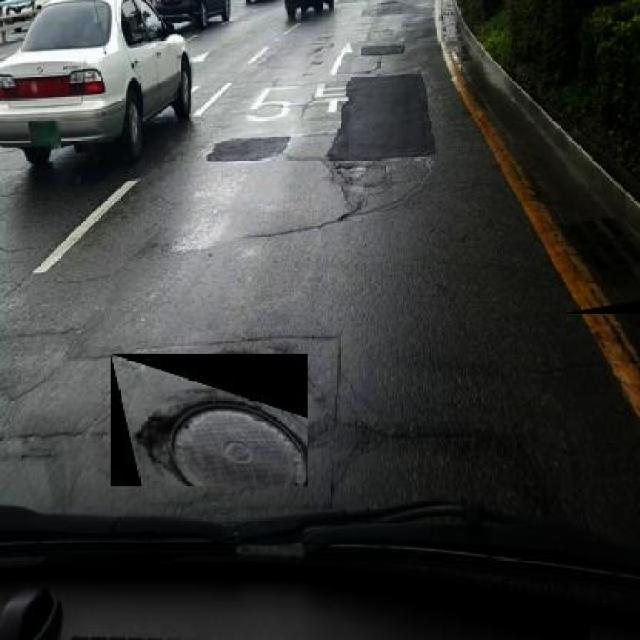Manhole: (112, 354, 308, 486), (561, 218, 640, 313)
Pothole: (308, 414, 538, 464), (0, 424, 108, 461), (322, 160, 400, 207), (304, 46, 326, 66)
